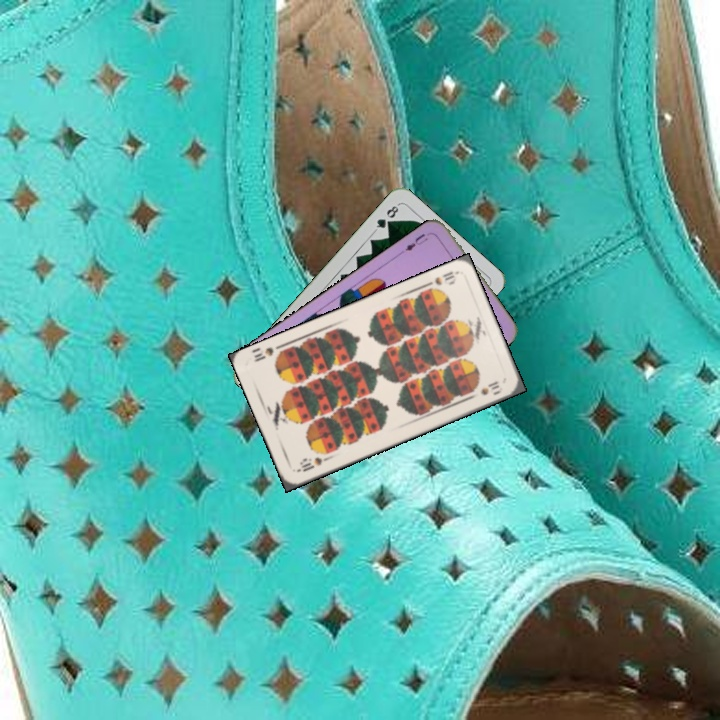EU: (401, 228, 434, 254)
G8: (371, 200, 402, 234)
S10: (420, 267, 459, 294), (293, 452, 332, 475)
